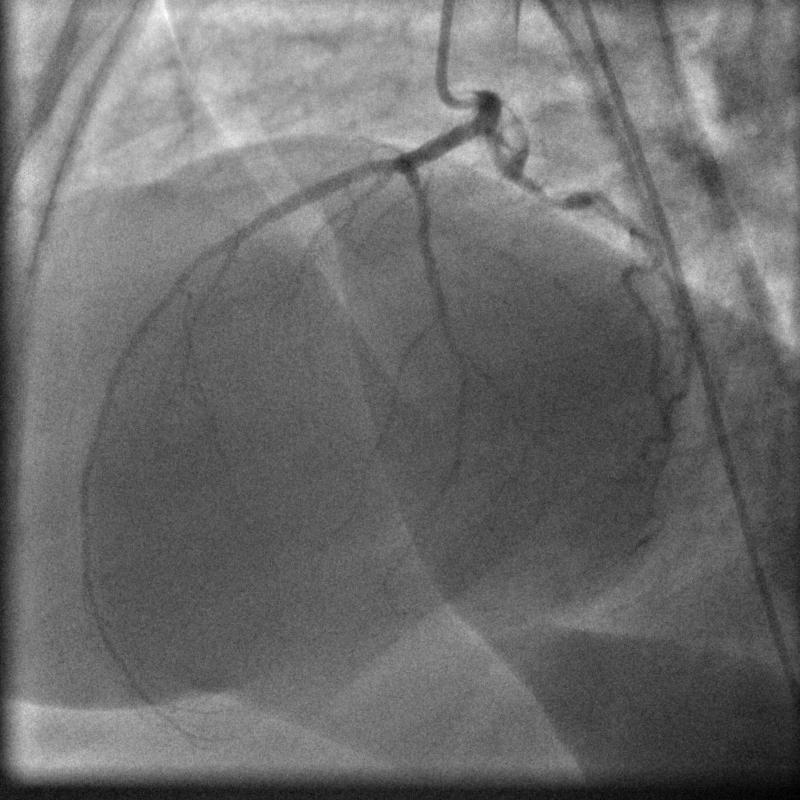Stenosis: (530, 174, 573, 224)
